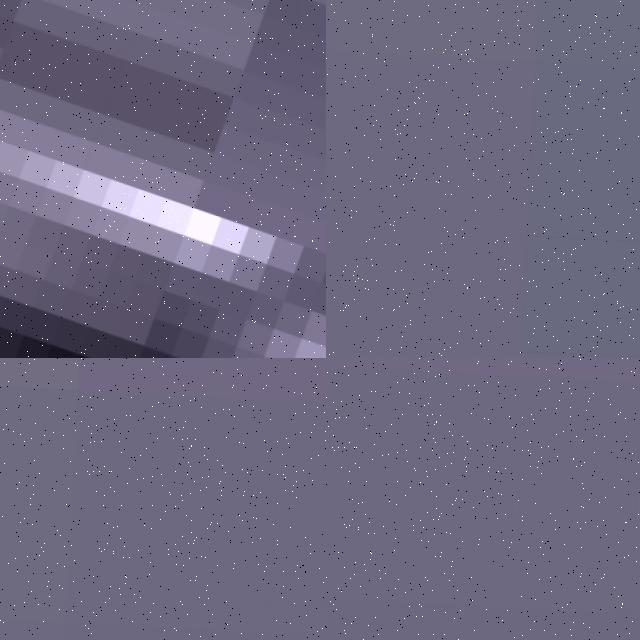drone: (0, 0, 326, 358)
